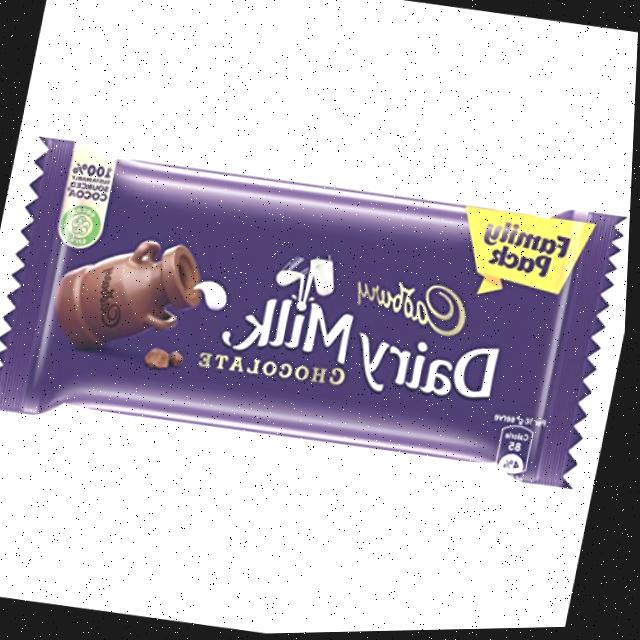cadbury: (0, 119, 635, 508)
